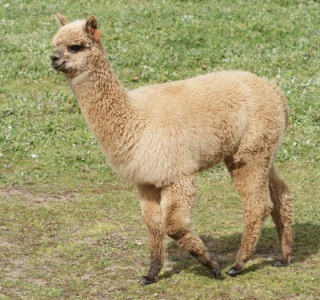alpaca: (49, 10, 295, 286)
